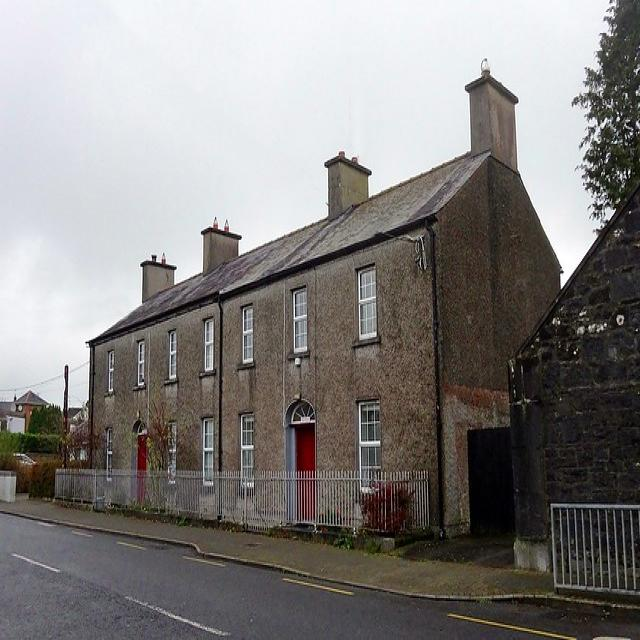building: (81, 66, 565, 559)
